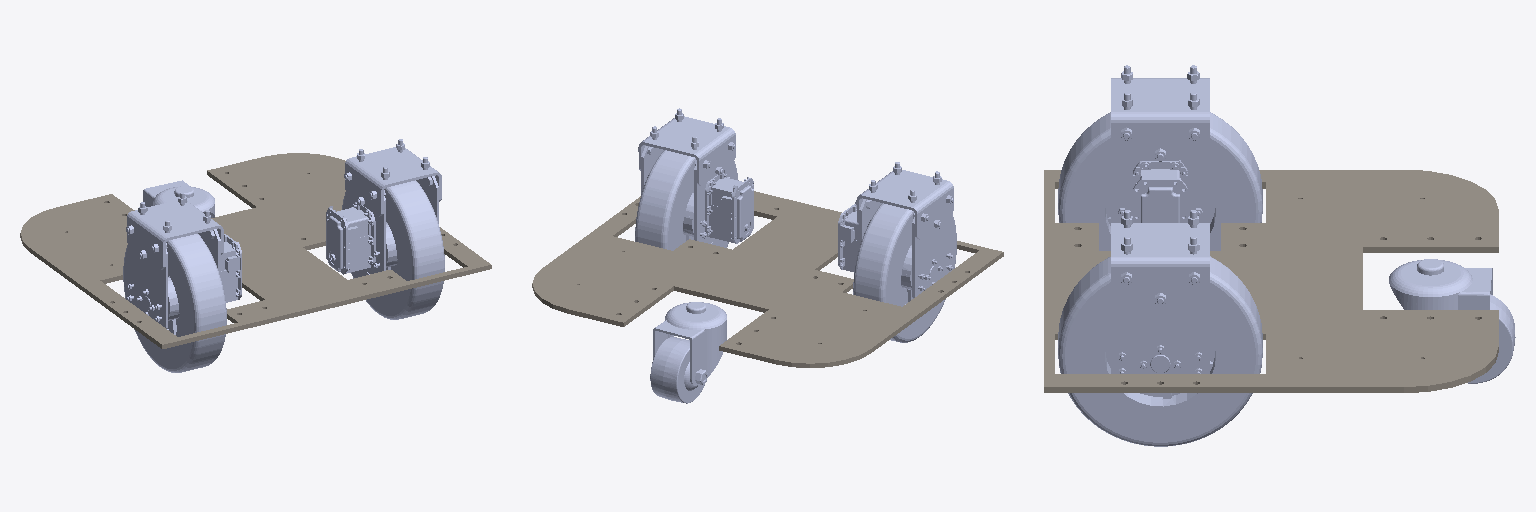
The robot description file, URDF, robot "CLAB_BASE_ORIENTED_URDF":
<?xml version="1.0" encoding="utf-8"?>
<!-- This URDF was automatically created by SolidWorks to URDF Exporter! Originally created by [author] ([email redacted]) 
     Commit Version: 1.6.0-1-g15f4949  Build Version: 1.6.7594.29634
     For more information, please see http://wiki.ros.org/sw_urdf_exporter -->
<robot
  name="CLAB_BASE_ORIENTED_URDF">
  <link
    name="base_link">
    <inertial>
      <origin
        xyz="-8.50437310875233E-11 0.0159813714834693 0.00250000000000011"
        rpy="0 0 0" />
      <mass
        value="3.31941677205457" />
      <inertia
        ixx="0.0283956856483239"
        ixy="1.56957942991156E-11"
        ixz="-1.86103072158852E-19"
        iyy="0.0404453893416239"
        iyz="1.14035651031417E-17"
        izz="0.0688272440867309" />
    </inertial>
    <visual>
      <origin
        xyz="0 0 0"
        rpy="0 0 0" />
      <geometry>
        <mesh
          filename="package://clab_base_oriented_urdf/meshes/base_link.STL" />
      </geometry>
      <material
        name="">
        <color
          rgba="0.647058823529412 0.619607843137255 0.588235294117647 1" />
      </material>
    </visual>
    <collision>
      <origin
        xyz="0 0 0"
        rpy="0 0 0" />
      <geometry>
        <mesh
          filename="package://clab_base_oriented_urdf/meshes/base_link.STL" />
      </geometry>
    </collision>
  </link>
  <link
    name="wheel_right">
    <inertial>
      <origin
        xyz="0.00491241527948272 -6.9730174409588E-07 0.0071224127649539"
        rpy="0 0 0" />
      <mass
        value="0.684010339144008" />
      <inertia
        ixx="0.00182152617330921"
        ixy="4.07158064480081E-09"
        ixz="-3.25164912110965E-07"
        iyy="0.0010059719322362"
        iyz="7.59548912912029E-09"
        izz="0.000987737299333639" />
    </inertial>
    <visual>
      <origin
        xyz="0 0 0"
        rpy="0 0 0" />
      <geometry>
        <mesh
          filename="package://clab_base_oriented_urdf/meshes/wheel_right.STL" />
      </geometry>
      <material
        name="">
        <color
          rgba="0.792156862745098 0.819607843137255 0.933333333333333 1" />
      </material>
    </visual>
    <collision>
      <origin
        xyz="0 0 0"
        rpy="0 0 0" />
      <geometry>
        <mesh
          filename="package://clab_base_oriented_urdf/meshes/wheel_right.STL" />
      </geometry>
    </collision>
  </link>
  <joint
    name="wheel_rightjoint"
    type="continuous">
    <origin
      xyz="-0.1259 -0.076925 0.00895"
      rpy="0 0 0" />
    <parent
      link="base_link" />
    <child
      link="wheel_right" />
    <axis
      xyz="-1 0 0" />
    <limit
      effort="100"
      velocity="100" />
  </joint>
  <link
    name="wheel_left">
    <inertial>
      <origin
        xyz="-0.00491241527948273 6.97301744387313E-07 0.00712241276495473"
        rpy="0 0 0" />
      <mass
        value="0.684010339144008" />
      <inertia
        ixx="0.00182152617330921"
        ixy="4.07158064394683E-09"
        ixz="3.25164912109636E-07"
        iyy="0.0010059719322362"
        iyz="-7.59548912912119E-09"
        izz="0.000987737299333639" />
    </inertial>
    <visual>
      <origin
        xyz="0 0 0"
        rpy="0 0 0" />
      <geometry>
        <mesh
          filename="package://clab_base_oriented_urdf/meshes/wheel_left.STL" />
      </geometry>
      <material
        name="">
        <color
          rgba="0.792156862745098 0.819607843137255 0.933333333333333 1" />
      </material>
    </visual>
    <collision>
      <origin
        xyz="0 0 0"
        rpy="0 0 0" />
      <geometry>
        <mesh
          filename="package://clab_base_oriented_urdf/meshes/wheel_left.STL" />
      </geometry>
    </collision>
  </link>
  <joint
    name="wheel_leftjoint"
    type="continuous">
    <origin
      xyz="0.1259 -0.076925 0.00895"
      rpy="0 0 0" />
    <parent
      link="base_link" />
    <child
      link="wheel_left" />
    <axis
      xyz="1 0 0" />
    <limit
      effort="100"
      velocity="100" />
  </joint>
  <link
    name="caster_swivel">
    <inertial>
      <origin
        xyz="0.00096547437118144 0.026637559605482 -0.0346140664152665"
        rpy="0 0 0" />
      <mass
        value="0.134113257655034" />
      <inertia
        ixx="6.4323152854494E-05"
        ixy="-4.0209734662828E-07"
        ixz="1.1649817914467E-07"
        iyy="5.31303131099225E-05"
        iyz="3.26692719885787E-06"
        izz="5.60240583999466E-05" />
    </inertial>
    <visual>
      <origin
        xyz="0 0 0"
        rpy="0 0 0" />
      <geometry>
        <mesh
          filename="package://clab_base_oriented_urdf/meshes/caster_swivel.STL" />
      </geometry>
      <material
        name="">
        <color
          rgba="0.792156862745098 0.819607843137255 0.933333333333333 1" />
      </material>
    </visual>
    <collision>
      <origin
        xyz="0 0 0"
        rpy="0 0 0" />
      <geometry>
        <mesh
          filename="package://clab_base_oriented_urdf/meshes/caster_swivel.STL" />
      </geometry>
    </collision>
  </link>
  <joint
    name="swivel_joint"
    type="revolute">
    <origin
      xyz="0 0.1225 0"
      rpy="0 0 0" />
    <parent
      link="base_link" />
    <child
      link="caster_swivel" />
    <axis
      xyz="0 0 -1" />
    <limit
      lower="0"
      upper="0"
      effort="0"
      velocity="0" />
  </joint>
  <link
    name="caster_wheel">
    <inertial>
      <origin
        xyz="3.68628738645072E-18 0 0"
        rpy="0 0 0" />
      <mass
        value="0.0662597925360328" />
      <inertia
        ixx="4.21221240717744E-05"
        ixy="-5.55945116336051E-07"
        ixz="-1.24770238492056E-18"
        iyy="2.66215023572609E-05"
        iyz="4.42628331961545E-20"
        izz="2.66015884200546E-05" />
    </inertial>
    <visual>
      <origin
        xyz="0 0 0"
        rpy="0 0 0" />
      <geometry>
        <mesh
          filename="package://clab_base_oriented_urdf/meshes/caster_wheel.STL" />
      </geometry>
      <material
        name="">
        <color
          rgba="0.792156862745098 0.819607843137255 0.933333333333333 1" />
      </material>
    </visual>
    <collision>
      <origin
        xyz="0 0 0"
        rpy="0 0 0" />
      <geometry>
        <mesh
          filename="package://clab_base_oriented_urdf/meshes/caster_wheel.STL" />
      </geometry>
    </collision>
  </link>
  <joint
    name="caster_whl_jnt"
    type="continuous">
    <origin
      xyz="0.001212 0.15354 -0.042461"
      rpy="0 0 0" />
    <parent
      link="base_link" />
    <child
      link="caster_wheel" />
    <axis
      xyz="-0.99936 0.035797 0" />
    <limit
      effort="100"
      velocity="100" />
  </joint>
  <link
    name="laser_link">
    <inertial>
      <origin
        xyz="0.000215981363826668 0.0430266372519361 -0.0380351658134059"
        rpy="0 0 0" />
      <mass
        value="0.21426881735577" />
      <inertia
        ixx="0.000240494558642832"
        ixy="-6.17113925619745E-08"
        ixz="6.11467207181745E-08"
        iyy="0.000193858915028837"
        iyz="-2.88063997450774E-05"
        izz="0.000300766562794737" />
    </inertial>
    <visual>
      <origin
        xyz="0 0 0"
        rpy="0 0 0" />
      <geometry>
        <mesh
          filename="package://clab_base_oriented_urdf/meshes/laser_link.STL" />
      </geometry>
      <material
        name="">
        <color
          rgba="0.792156862745098 0.819607843137255 0.933333333333333 1" />
      </material>
    </visual>
    <collision>
      <origin
        xyz="0 0 0"
        rpy="0 0 0" />
      <geometry>
        <mesh
          filename="package://clab_base_oriented_urdf/meshes/laser_link.STL" />
      </geometry>
    </collision>
  </link>
  <joint
    name="laser_joint"
    type="fixed">
    <origin
      xyz="0.00057241 -0.15541 0.088932"
      rpy="0 0 0" />
    <parent
      link="base_link" />
    <child
      link="laser_link" />
    <axis
      xyz="0 0 1" />
  </joint>
</robot>

--- Facts derived from the render (not from the file) ---
The picture shows the robot from 3 angles, left to right: view 1: azimuth 30°, elevation 25°; view 2: azimuth 150°, elevation 25°; view 3: azimuth 270°, elevation 25°; orthographic projection.
Robot: CLAB_BASE_ORIENTED_URDF — 6 links, 5 joints (1 revolute, 3 continuous, 1 fixed); root link base_link; default pose: all joints at 0.
Links seen in each view (by area): view 1: base_link, wheel_right, wheel_left, caster_swivel; view 2: base_link, wheel_right, wheel_left, caster_swivel; view 3: base_link, wheel_left, wheel_right, caster_swivel, caster_wheel.
Link boxes in pixels (x1=…): base_link: x1=20, y1=153, x2=491, y2=348; wheel_right: x1=123, y1=192, x2=241, y2=372; wheel_left: x1=326, y1=139, x2=444, y2=319; caster_swivel: x1=143, y1=180, x2=214, y2=217; base_link: x1=532, y1=191, x2=1003, y2=367; wheel_right: x1=838, y1=162, x2=956, y2=342; wheel_left: x1=635, y1=108, x2=753, y2=250; caster_swivel: x1=650, y1=302, x2=726, y2=403; base_link: x1=1044, y1=170, x2=1498, y2=392; wheel_left: x1=1058, y1=210, x2=1262, y2=446; wheel_right: x1=1058, y1=65, x2=1262, y2=250; caster_swivel: x1=1389, y1=259, x2=1515, y2=383; caster_wheel: x1=1468, y1=320, x2=1511, y2=382.
Bounding box of the posed robot: 0.38 × 0.3475 × 0.1819 m (x, y, z).
Meshes: 6 distinct files referenced, 5 mesh visuals loaded (5 binary STL); not drawn: 1 (reference not matched to a file when rendering).